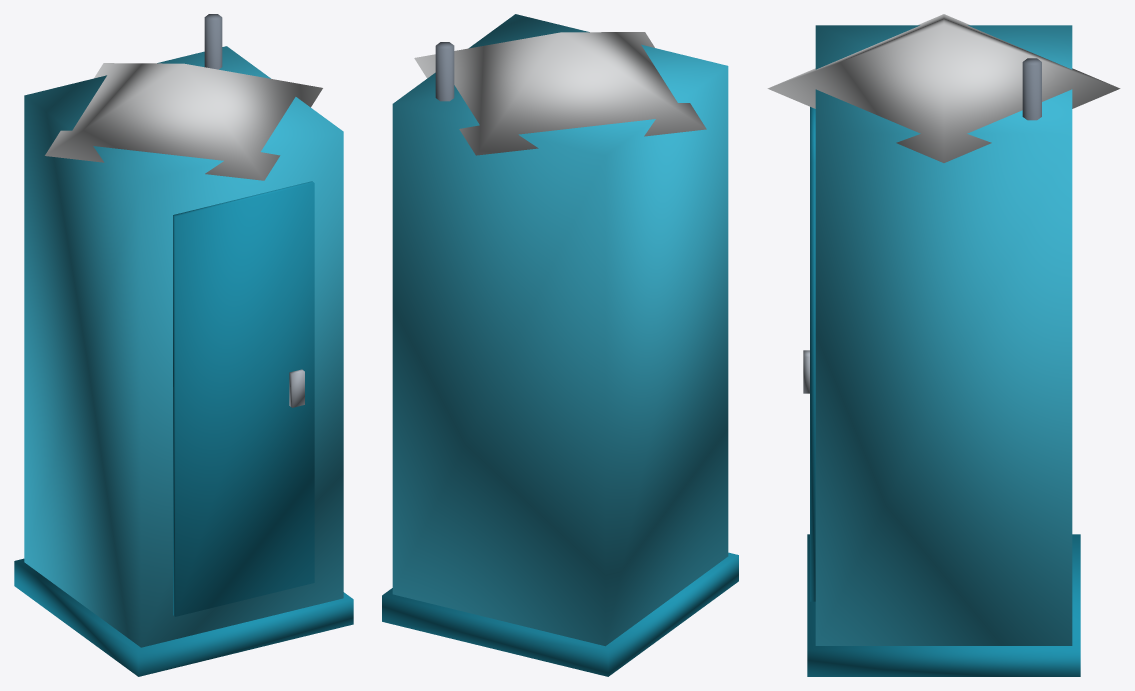
File: porta-potty.glb
The picture shows the model from 3 angles, left to right: view 1: azimuth 30°, elevation 25°; view 2: azimuth 150°, elevation 25°; view 3: azimuth 270°, elevation 25°; orthographic projection. The views are drawn at different scales.
Visible parts, largest first — view 1: world; view 2: world; view 3: world.
Part boxes in pixels (x1,y1,x2,y2): world: (14, 14, 353, 676); world: (382, 14, 738, 676); world: (767, 14, 1120, 676).
Size of the model in its own units: 3.5 by 6.5 by 3.5.
